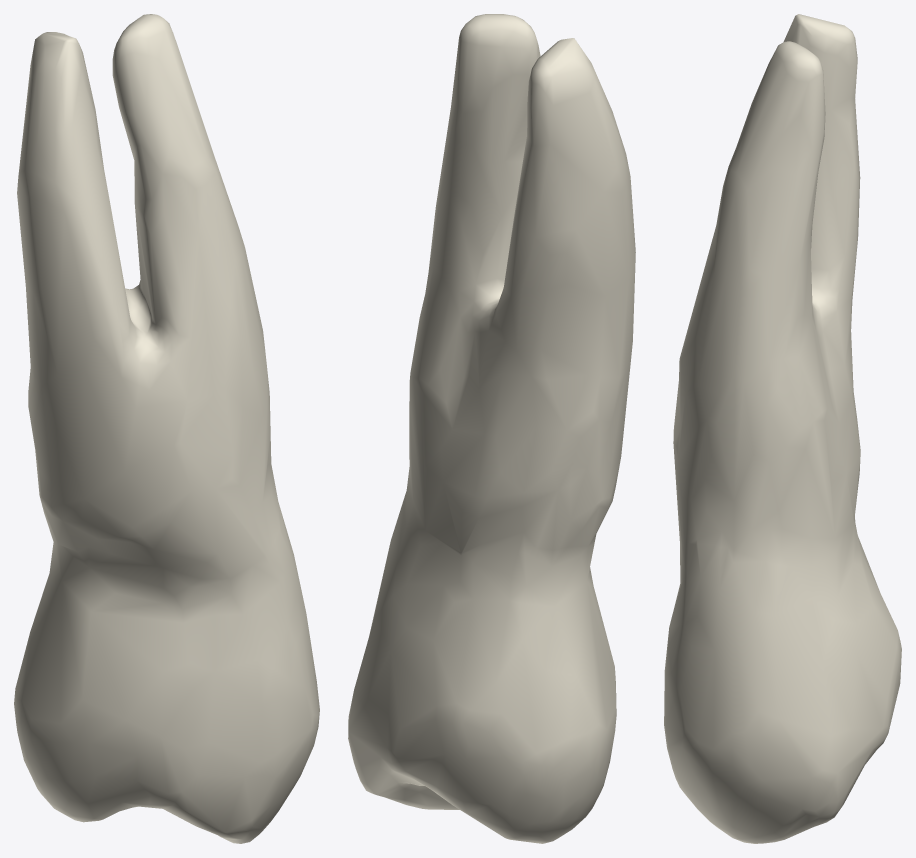
3 renders of one model, left to right at view 1: azimuth 30°, elevation 25°; view 2: azimuth 150°, elevation 25°; view 3: azimuth 270°, elevation 25°, orthographic. The views are drawn at different scales.
Parts seen in each view (by area): view 1: ZA_6a194c2daf519621; view 2: ZA_6a194c2daf519621; view 3: ZA_6a194c2daf519621.
Part boxes in pixels (x1=…): ZA_6a194c2daf519621: x1=14, y1=14, x2=319, y2=843; ZA_6a194c2daf519621: x1=348, y1=14, x2=635, y2=843; ZA_6a194c2daf519621: x1=664, y1=14, x2=901, y2=843.
Bounding box in the file's own units: 0.00931 × 0.0277 × 0.00786.
